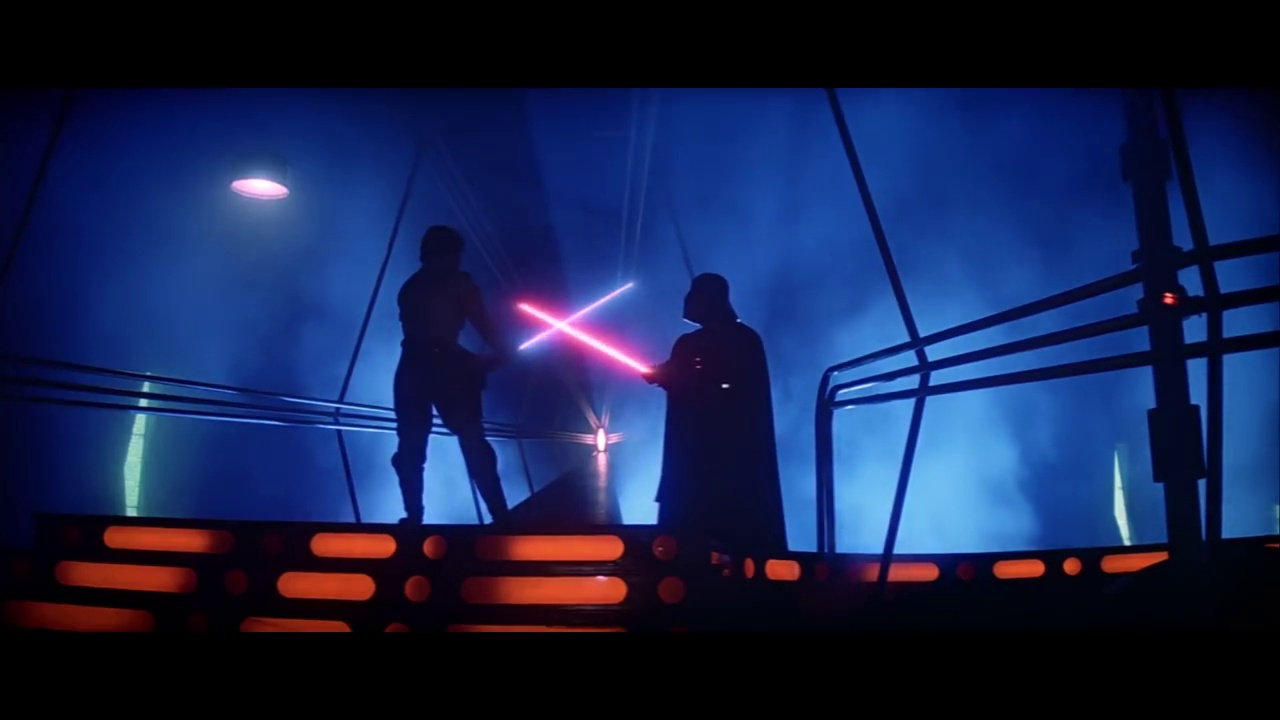lightsaber: (491, 275, 666, 380)
